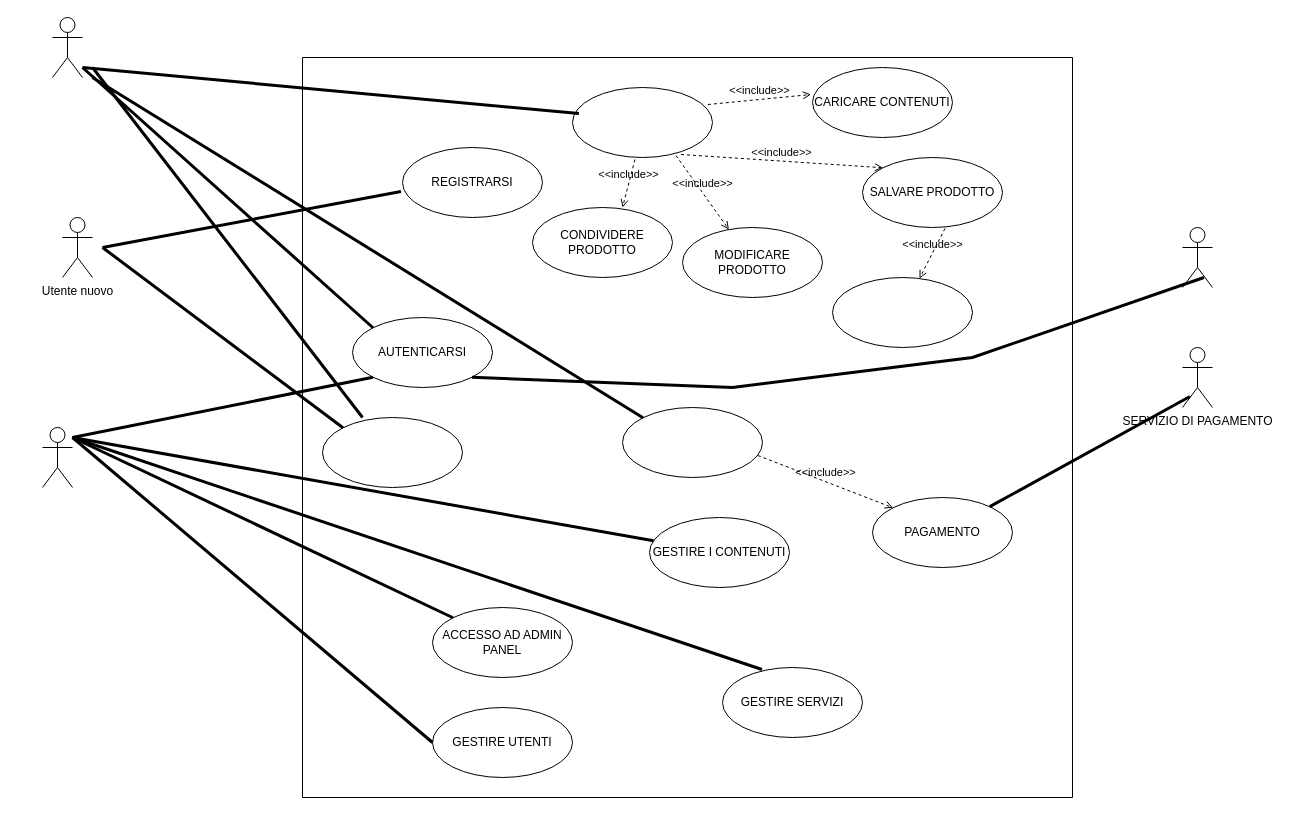
This 1306x815 diagram has some shape labels left out. The shapes that lost their labels are listed below. From the top down, each one's centre as x and y in pixels, then its label:
At [67,47]: "Utente loggato".
At [642,122]: "CREARE PRODOTTO".
At [1197,257]: "SERIVIZIO DI AUTENTICAZIONE".
At [902,312]: "GENERA QR".
At [57,457]: "Amministratore".
At [392,452]: "VISUALIZZARE PRODOTTO".
At [692,442]: "ACQUISTARE SERVIZIO".
